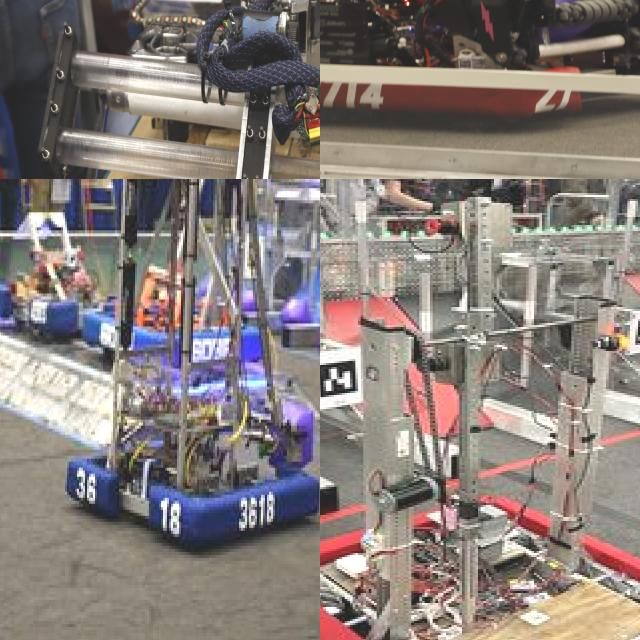FRC-Robots: (320, 260, 640, 640), (110, 179, 320, 582), (32, 0, 320, 179), (320, 0, 640, 134), (0, 189, 98, 347)
